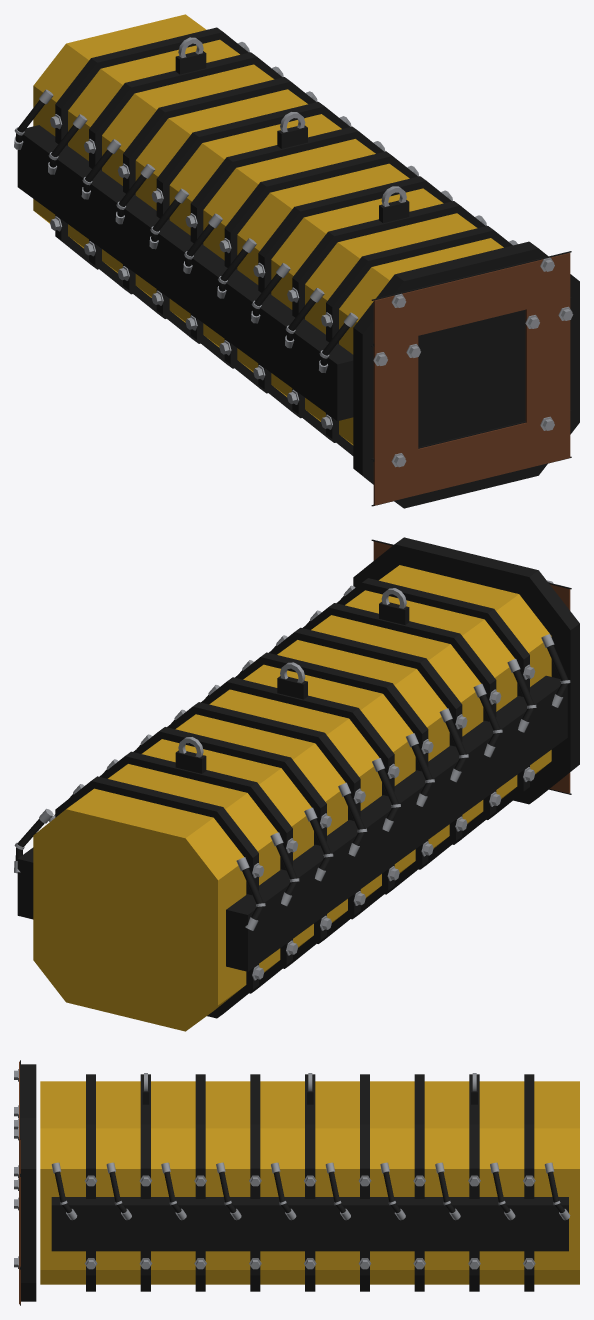
File: md40_coil.obj
3 views of the same model, one above another, from view 1: azimuth 30°, elevation 25°; view 2: azimuth 150°, elevation 25°; view 3: azimuth 270°, elevation 25° (orthographic). The views are drawn at different scales.
Parts seen in each view (by area): view 1: md40_coil; view 2: md40_coil; view 3: md40_coil.
Part boxes in pixels (bbox=[...]): md40_coil: bbox=[14, 14, 579, 508]; md40_coil: bbox=[14, 537, 579, 1031]; md40_coil: bbox=[14, 1060, 579, 1305].
Size of the model in its own units: 2.3 by 2.19 by 5.58.
